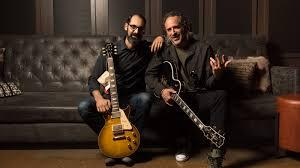acousticguitar: (148, 58, 227, 151), (98, 37, 138, 158)
